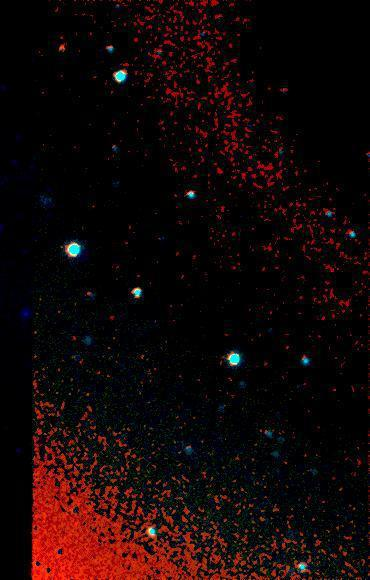star: (162, 235, 192, 265)
